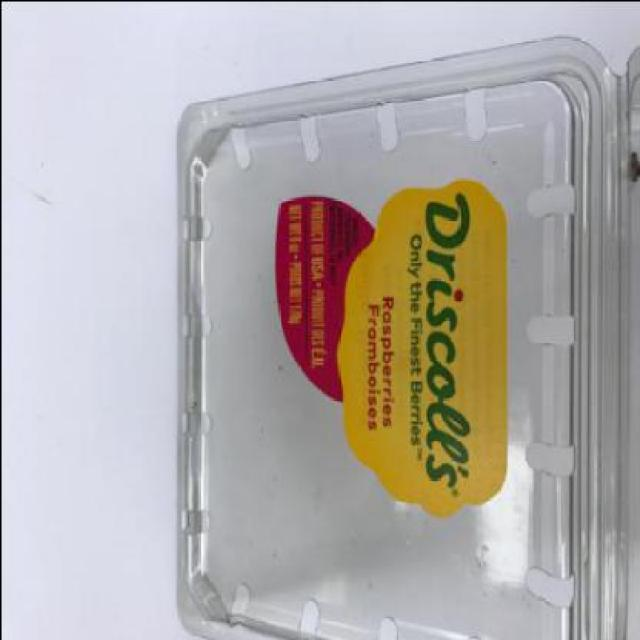PLASTIC: (172, 32, 638, 638)
